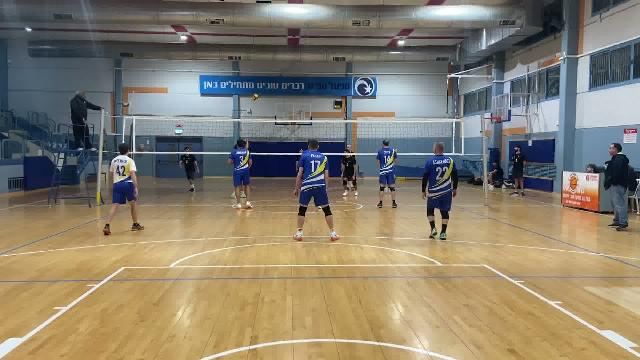ball: (251, 93, 261, 102)
